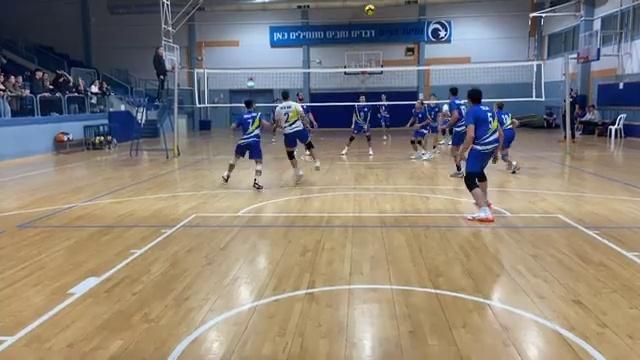ball: (364, 3, 376, 16)
